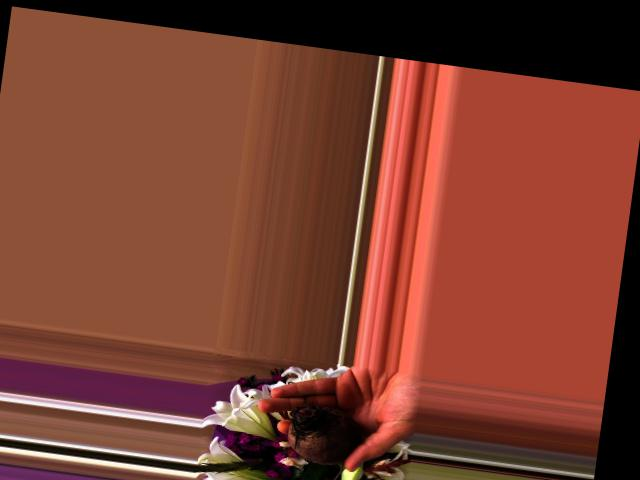beet: (281, 401, 365, 480)
